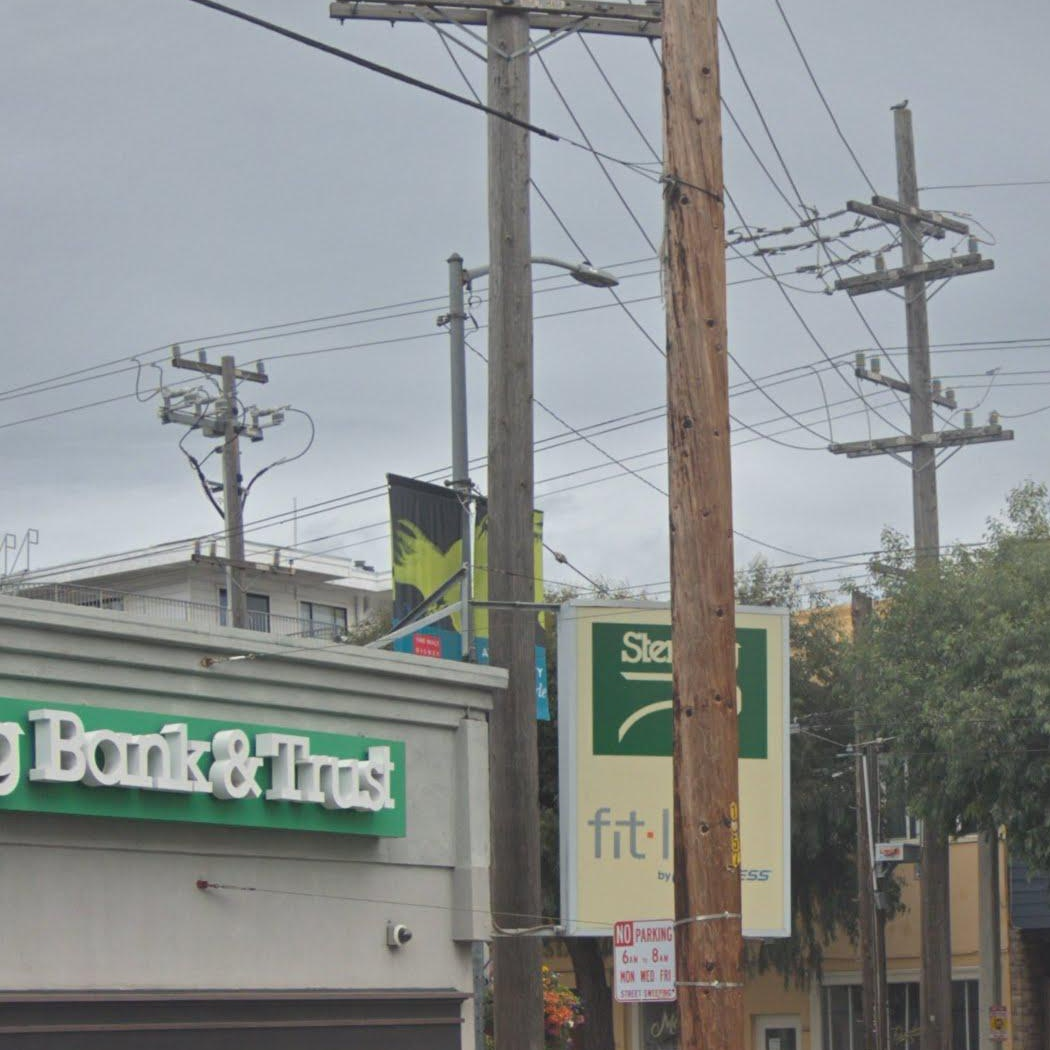No Parking: (611, 918, 677, 1004)
